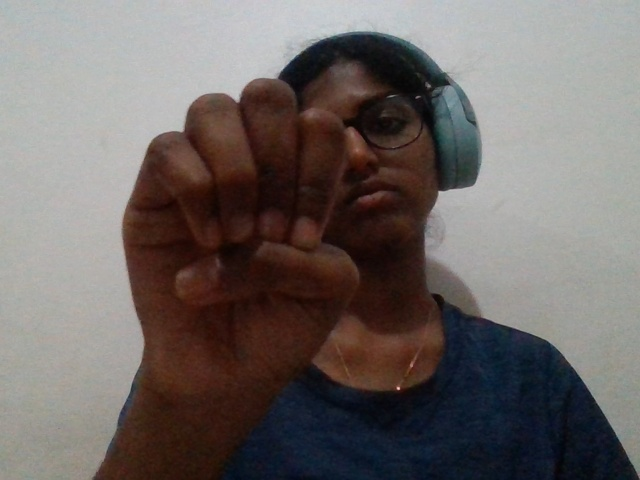E: (90, 69, 369, 448)
